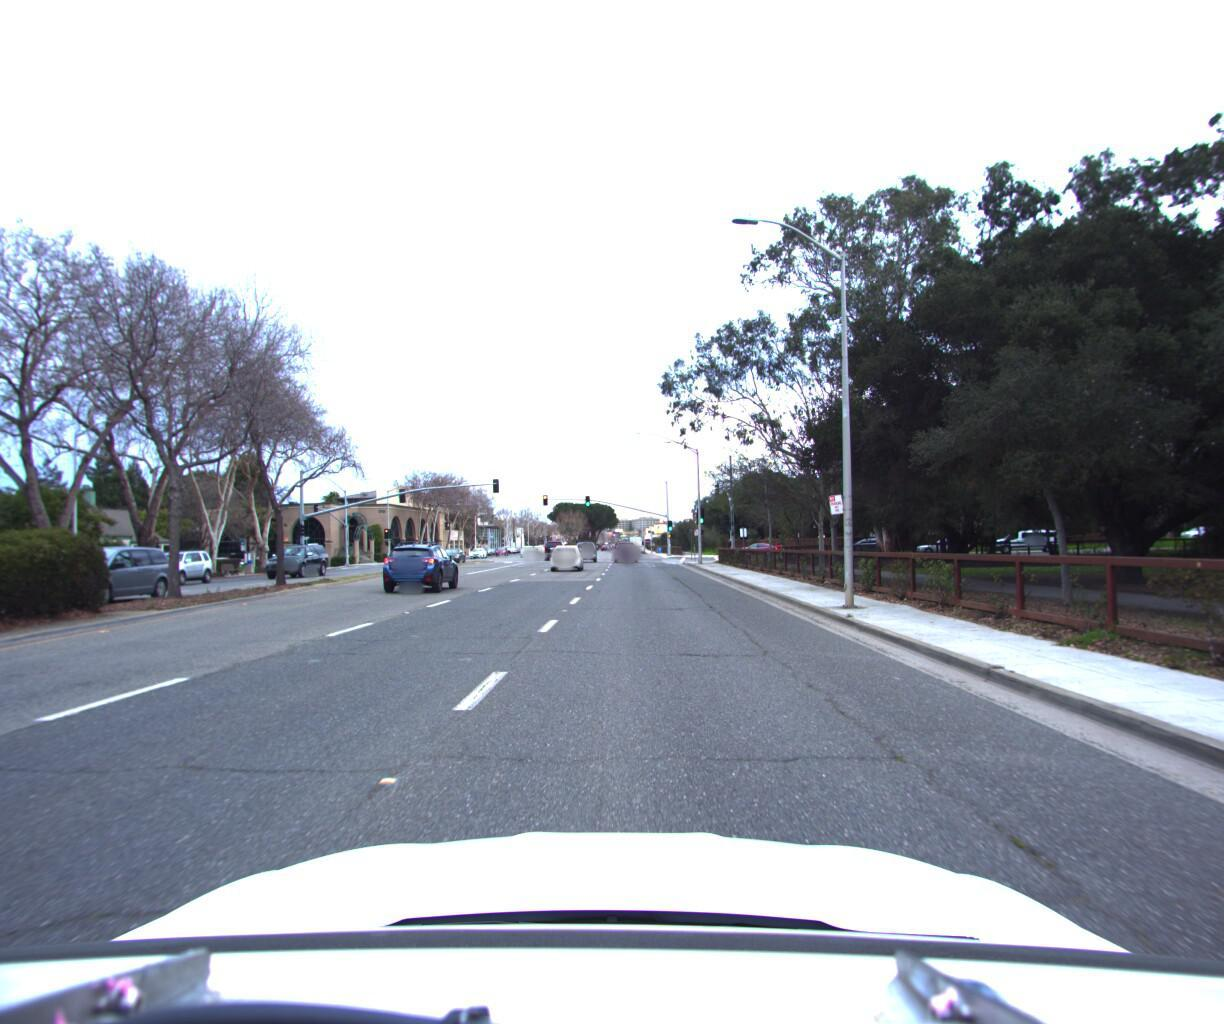car: (10, 548, 181, 611), (377, 538, 463, 591), (133, 545, 221, 587), (261, 540, 333, 577), (987, 521, 1057, 545), (548, 538, 585, 567), (615, 537, 640, 558), (576, 535, 600, 556)
